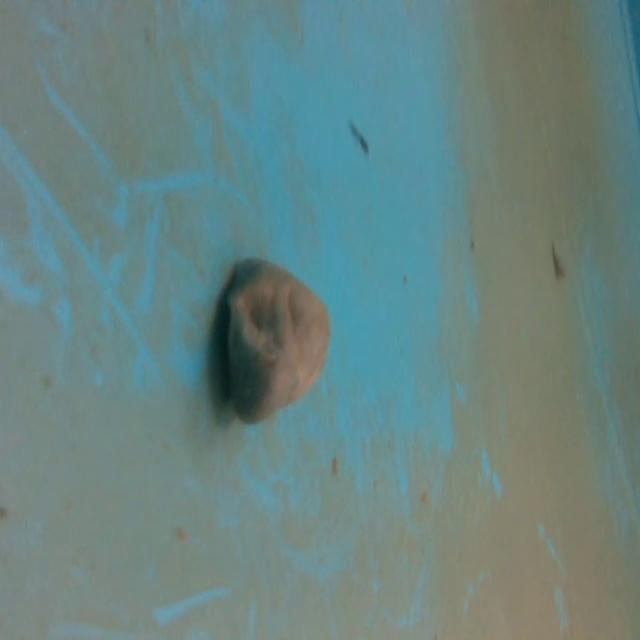rock: (213, 253, 336, 431)
